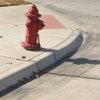a fire hydrant: (24, 4, 44, 50)
